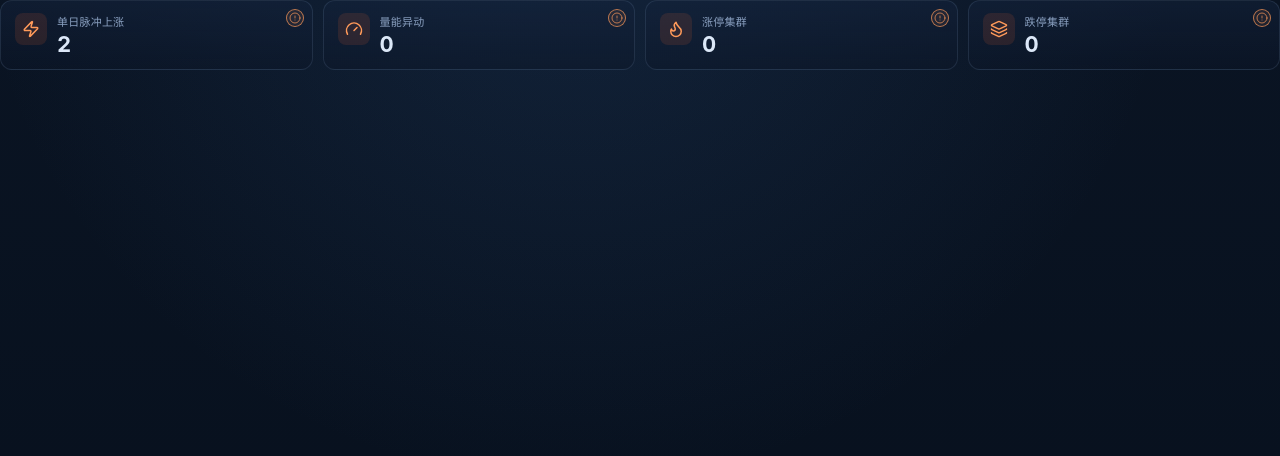
Test: ShortTermKpi › 鼠标悬停数字时弹出当日命中的板块名称清单
This screenshot has width=1280, height=456.
Check: the text "单日脉冲上涨" is shown, box [57,15,124,29]
Hover over the text "单日脉冲上涨".
mouse_move(156, 35)  # box [0,0,312,70]
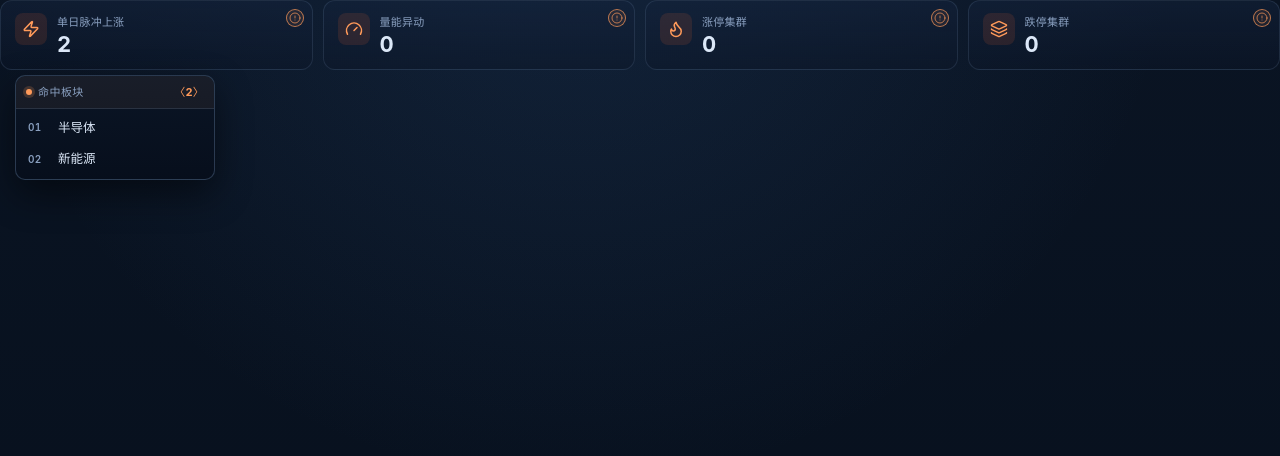
Check: the tooltip with class "kpi-sector-popover" is shown, box [15,75,215,180]
Check: the text "半导体" is shown, box [58,120,96,134]
Check: the text "新能源" is shown, box [58,151,96,166]
